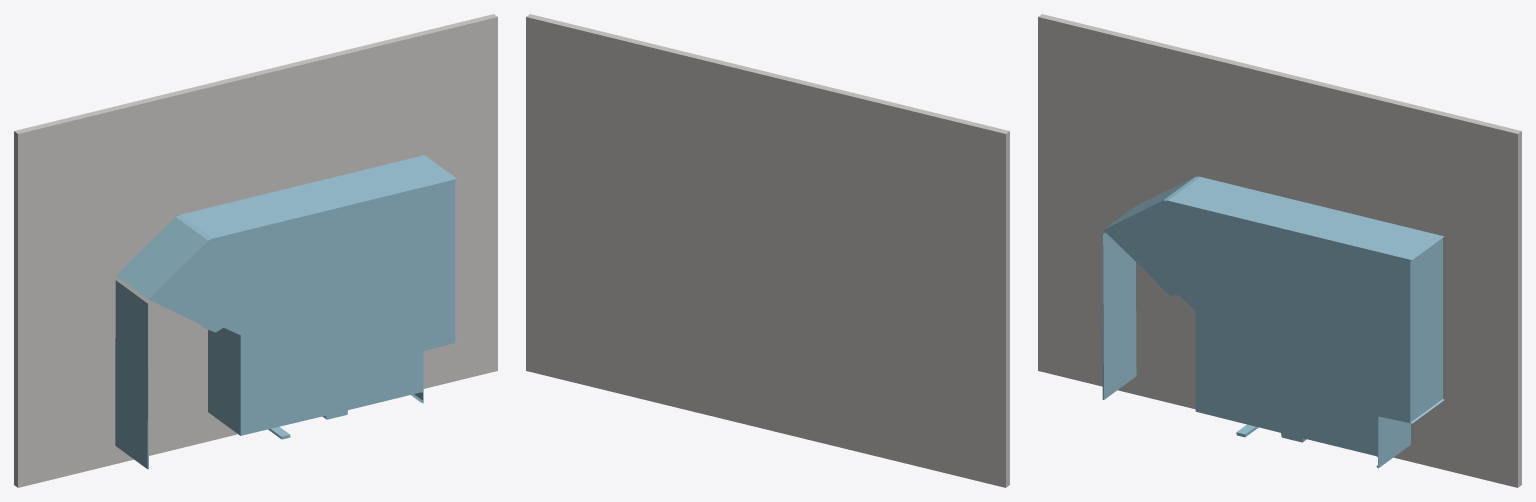
The picture shows the model from 3 angles, left to right: view 1: azimuth 30°, elevation 25°; view 2: azimuth 150°, elevation 25°; view 3: azimuth 330°, elevation 25°; orthographic projection.
Visible parts, largest first — view 1: world; view 2: world; view 3: world.
Part boxes in pixels (bbox=[...]): world: bbox=[14, 14, 497, 487]; world: bbox=[526, 14, 1009, 487]; world: bbox=[1038, 14, 1521, 487].
Bounding box in the file's own units: 10.23 × 7.21 × 1.35.
